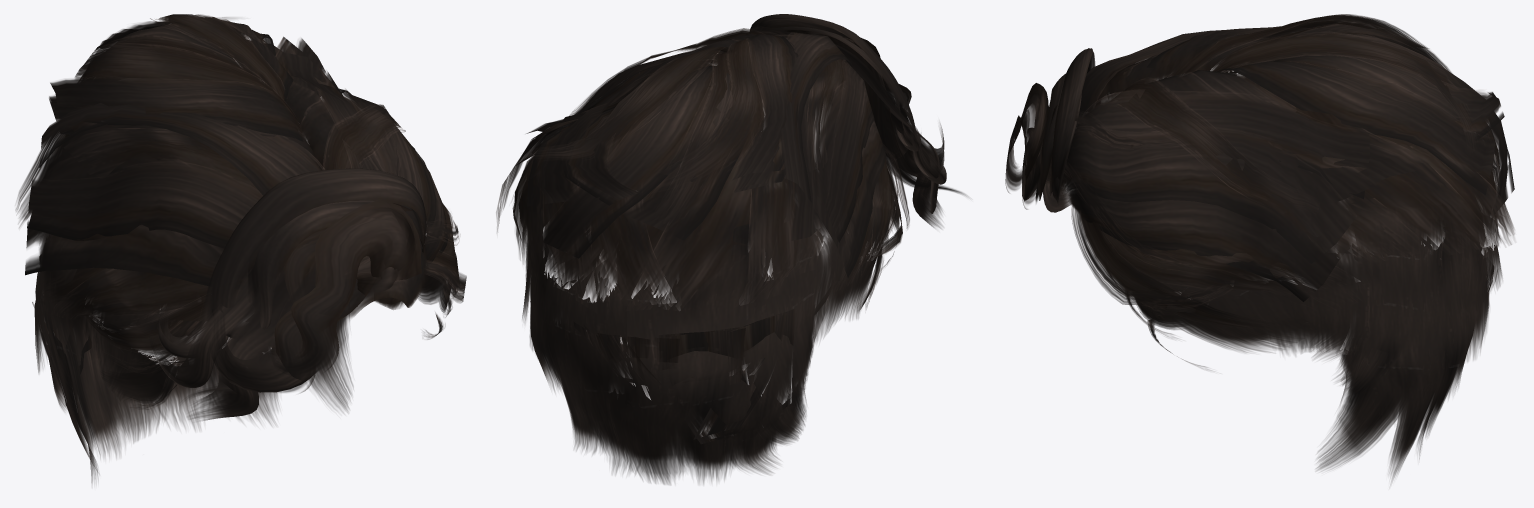
The model's file is Triangle_Curly_SidePart.glb.
The picture shows the model from 3 angles, left to right: view 1: azimuth 30°, elevation 25°; view 2: azimuth 150°, elevation 25°; view 3: azimuth 270°, elevation 25°; orthographic projection. The views are drawn at different scales.
Visible parts, largest first — view 1: TRIANGLE - CURLY - SIDE PART, TRIANGLE - CURLY - SIDE PART.002; view 2: TRIANGLE - CURLY - SIDE PART, TRIANGLE - CURLY - SIDE PART.002; view 3: TRIANGLE - CURLY - SIDE PART, TRIANGLE - CURLY - SIDE PART.002.
Boxes of the visible parts, x1,y1,x2,y2 form: TRIANGLE - CURLY - SIDE PART: [15, 14, 466, 483]; TRIANGLE - CURLY - SIDE PART.002: [149, 168, 428, 420]; TRIANGLE - CURLY - SIDE PART: [496, 27, 909, 484]; TRIANGLE - CURLY - SIDE PART.002: [750, 14, 966, 228]; TRIANGLE - CURLY - SIDE PART: [1060, 14, 1514, 482]; TRIANGLE - CURLY - SIDE PART.002: [1005, 48, 1095, 212].
Bounding box in the file's own units: 0.2093 × 0.2457 × 0.2756.
Materials: 1 (1 with a texture image).
